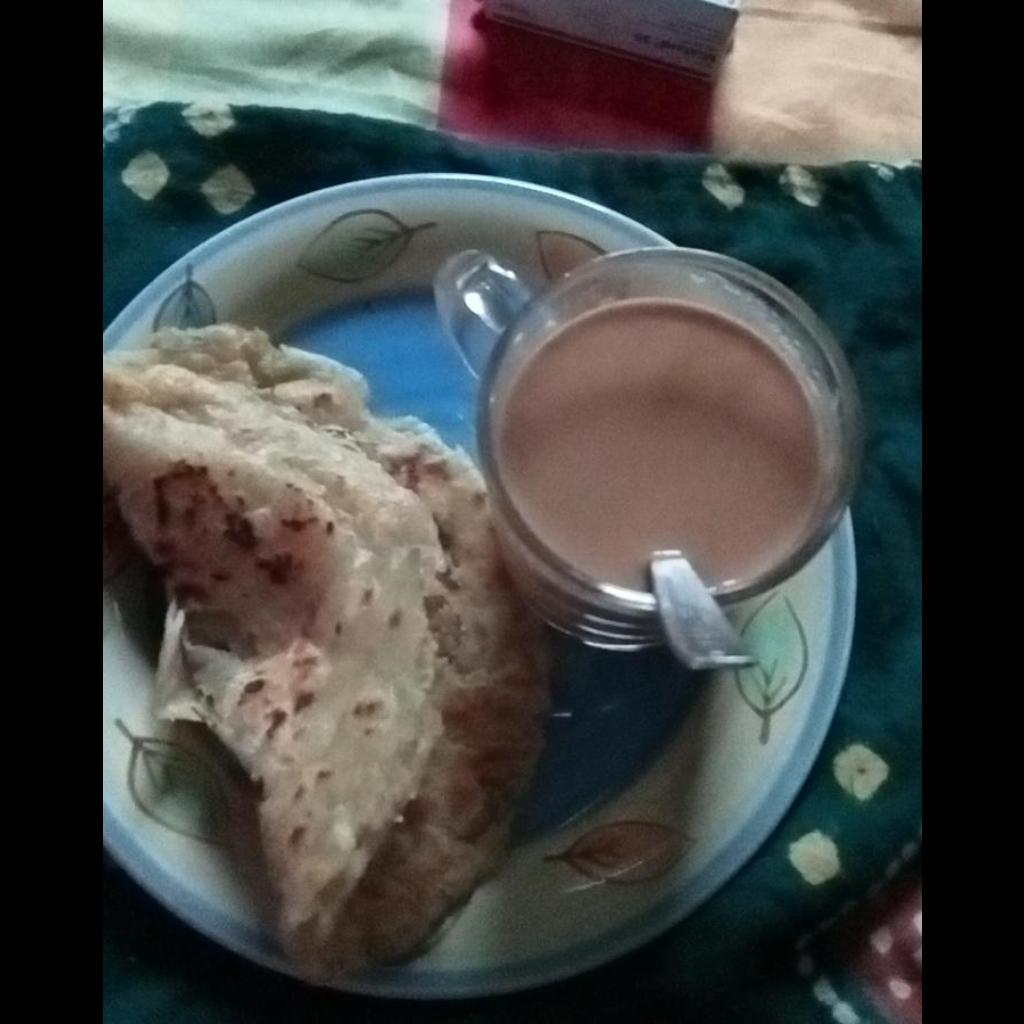cha: (494, 301, 825, 584)
ruti: (102, 324, 547, 979)
